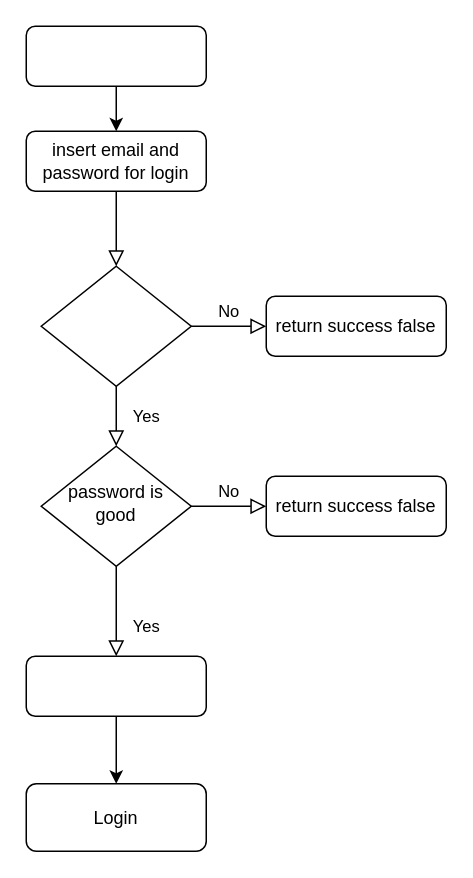
Some shapes in this 473 by 878 pixel diagram are drawn without their labels. The shapes that lost their labels are listed below. From the top down, each one's box as (x1, y1, x2, y2) in pixels, then its label:
(25, 25, 206, 86): Connexion Page
(40, 265, 191, 386): email exist
(25, 655, 206, 716): return user
